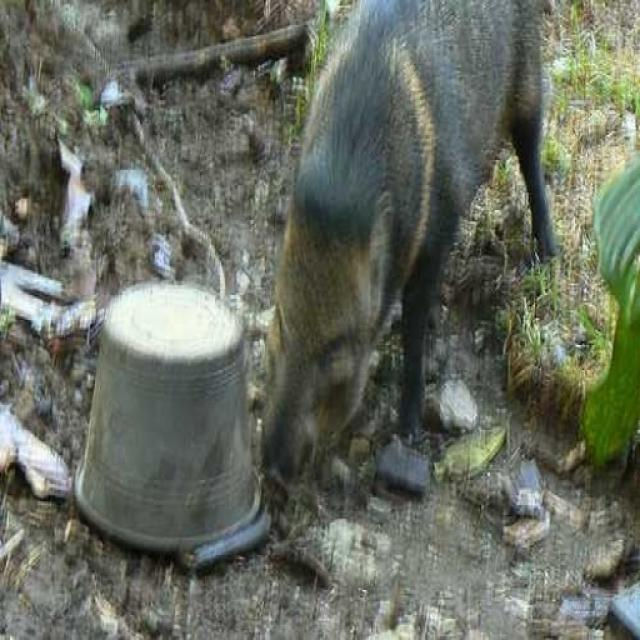pig: (258, 0, 640, 545)
